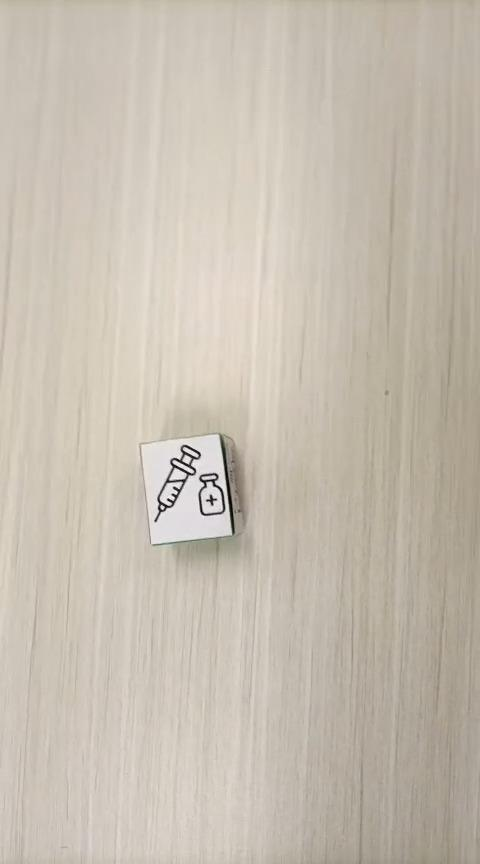antiseptic cream: (138, 431, 245, 546)
